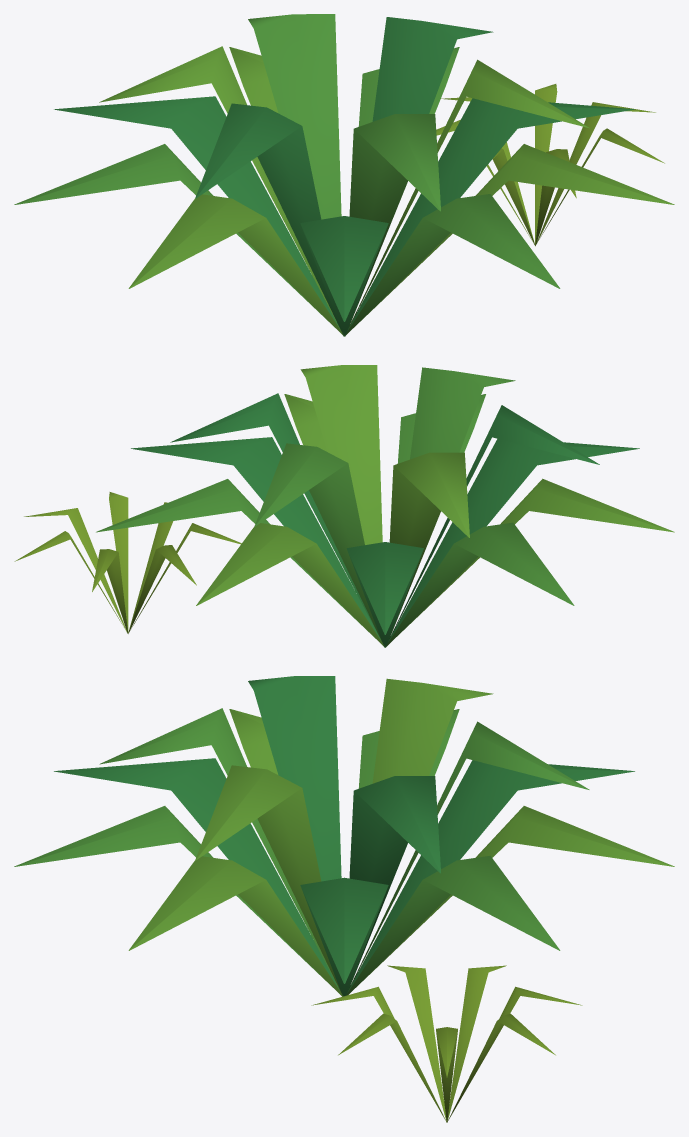
File: agave_cluster.glb
The picture shows the model from 3 angles, top to bottom: view 1: azimuth 30°, elevation 25°; view 2: azimuth 150°, elevation 25°; view 3: azimuth 270°, elevation 25°; orthographic projection. The views are drawn at different scales.
Parts seen in each view (by area): view 1: agave_cluster; view 2: agave_cluster; view 3: agave_cluster.
Part boxes in pixels (<box>): agave_cluster: <box>14,14,674,336</box>; agave_cluster: <box>14,365,674,647</box>; agave_cluster: <box>14,676,674,1122</box>.
Size of the model in its own units: 1.58 by 0.6598 by 1.42.
